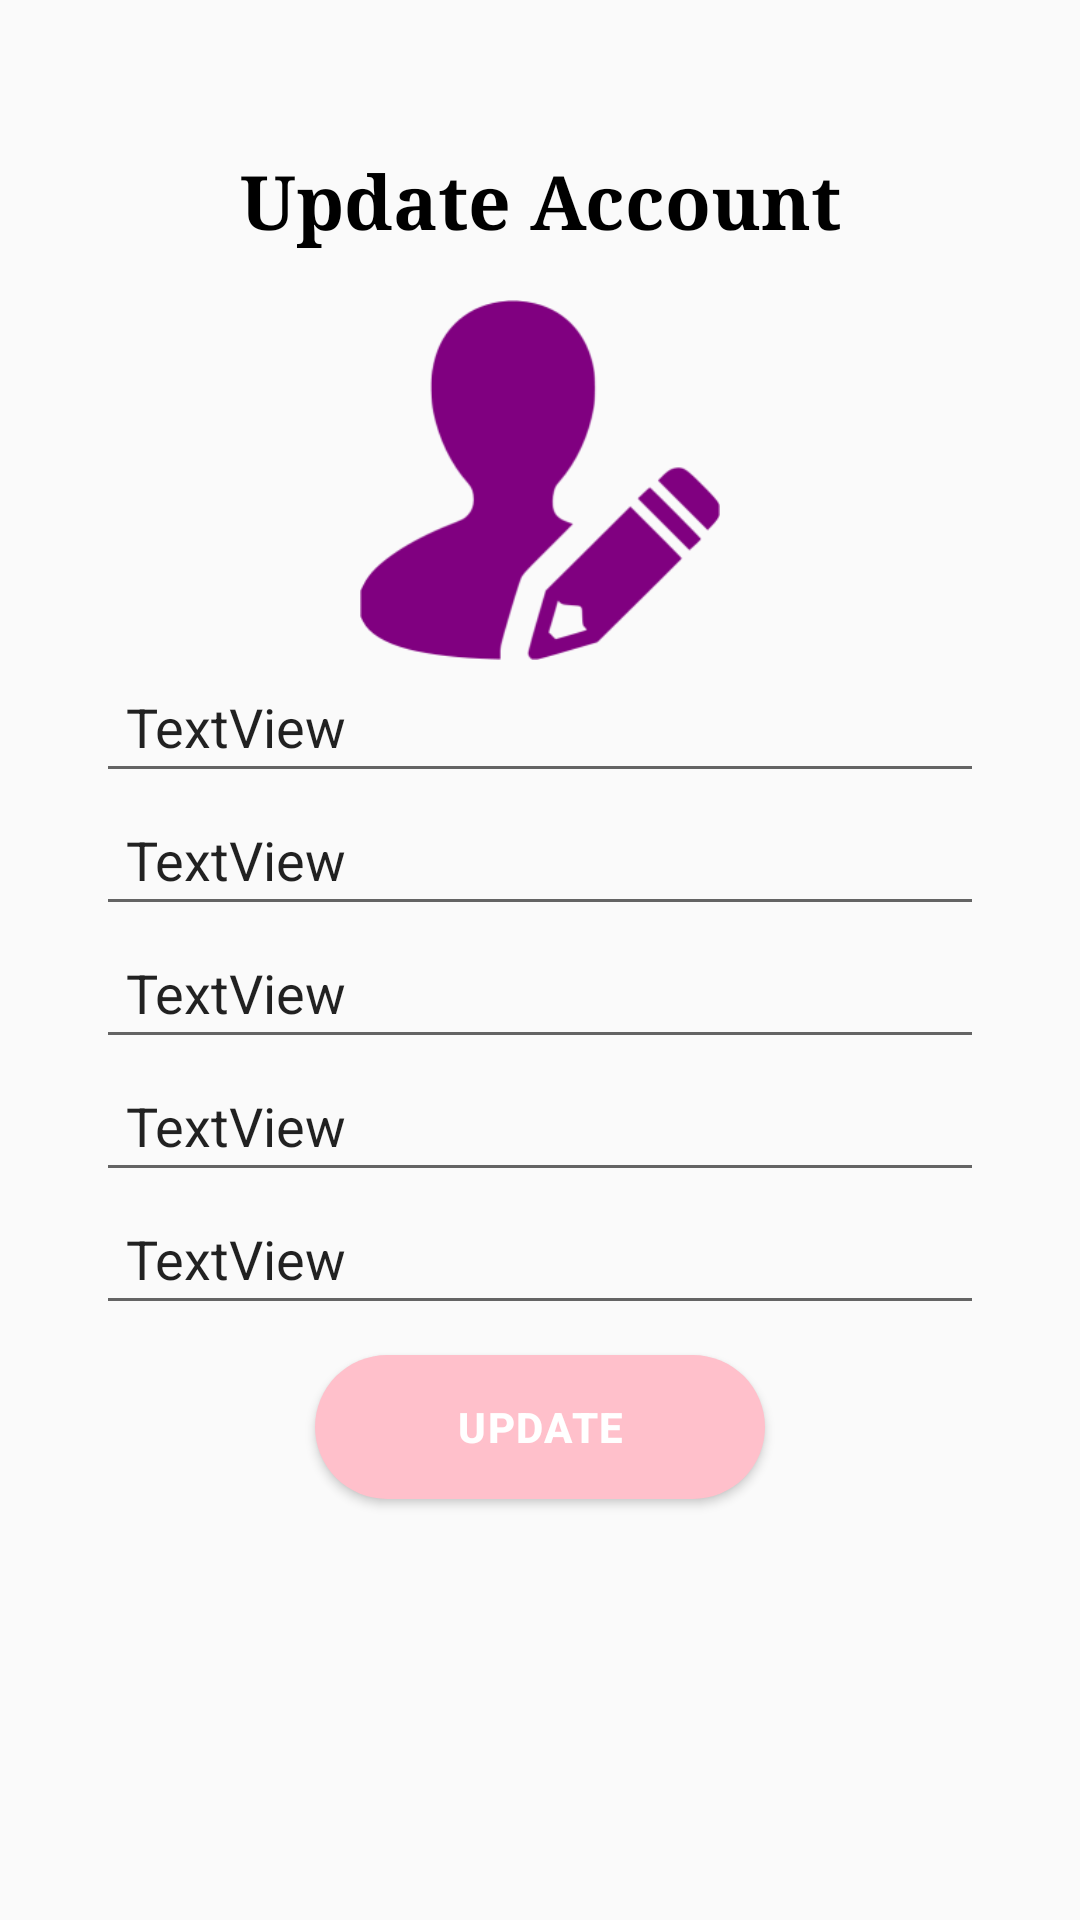

Icon bounding boxes for this 1080×1920 phone screenshot, format (x1, y1, x2, y2):
profil user: (360, 300, 720, 660)
